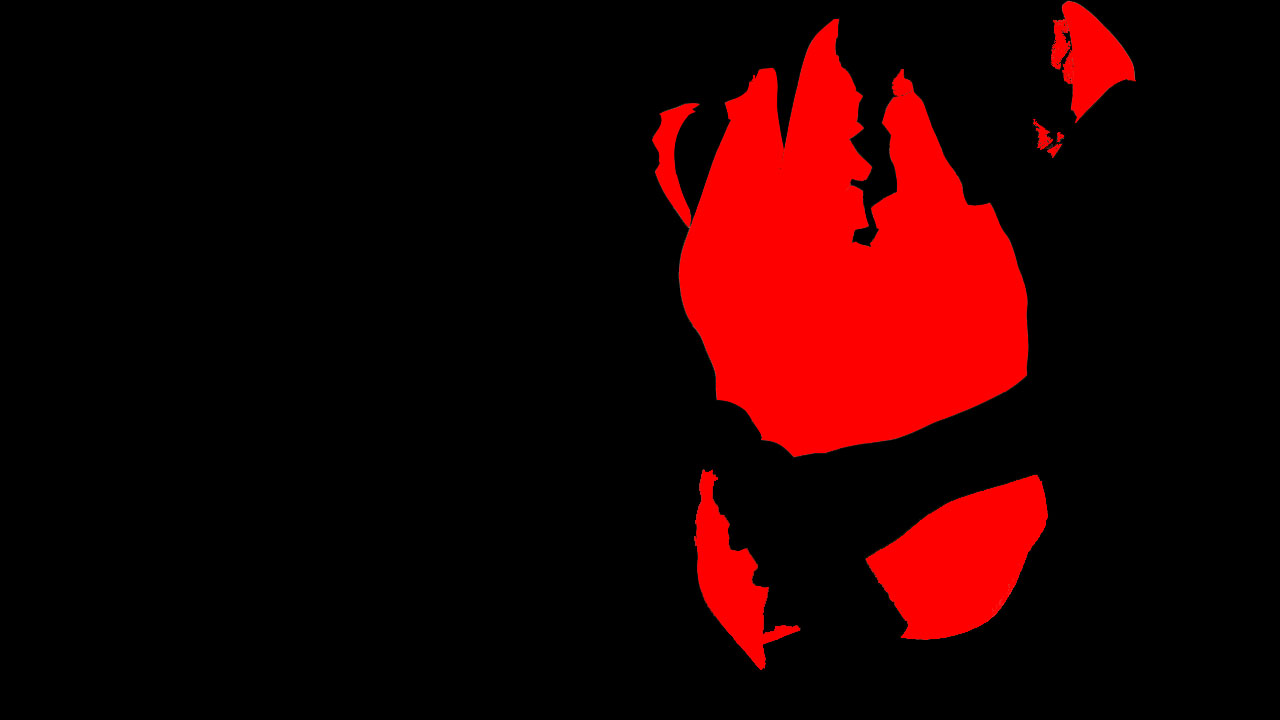uniforme_ifmt: (649, 6, 1161, 667)
